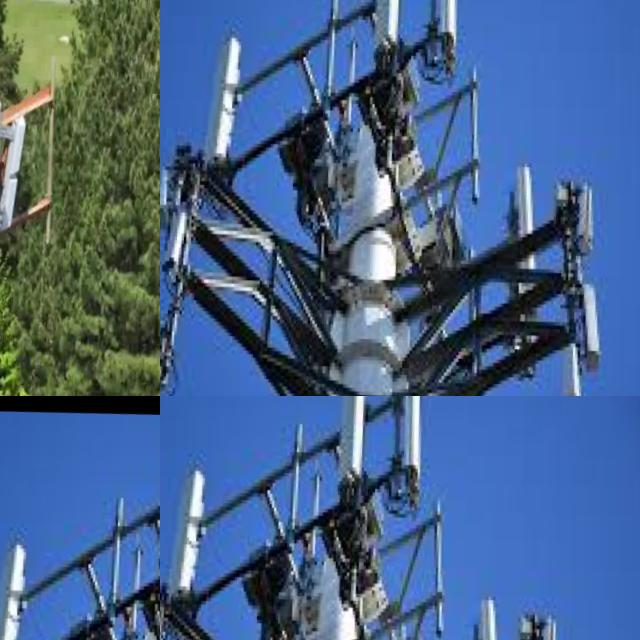GSM Antenna: (160, 459, 225, 599), (196, 27, 261, 166), (0, 93, 41, 231), (0, 533, 46, 640), (0, 82, 20, 289), (335, 396, 374, 484), (582, 263, 617, 359), (162, 197, 201, 281), (394, 396, 433, 465), (514, 151, 542, 233), (371, 0, 410, 51), (568, 335, 600, 396), (477, 583, 506, 640), (430, 0, 469, 32)
